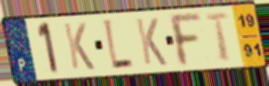1: (36, 20, 61, 77)
F: (166, 12, 204, 69)
K: (134, 17, 169, 67), (62, 22, 97, 72)
L: (101, 18, 136, 73)
T: (204, 12, 233, 63)
